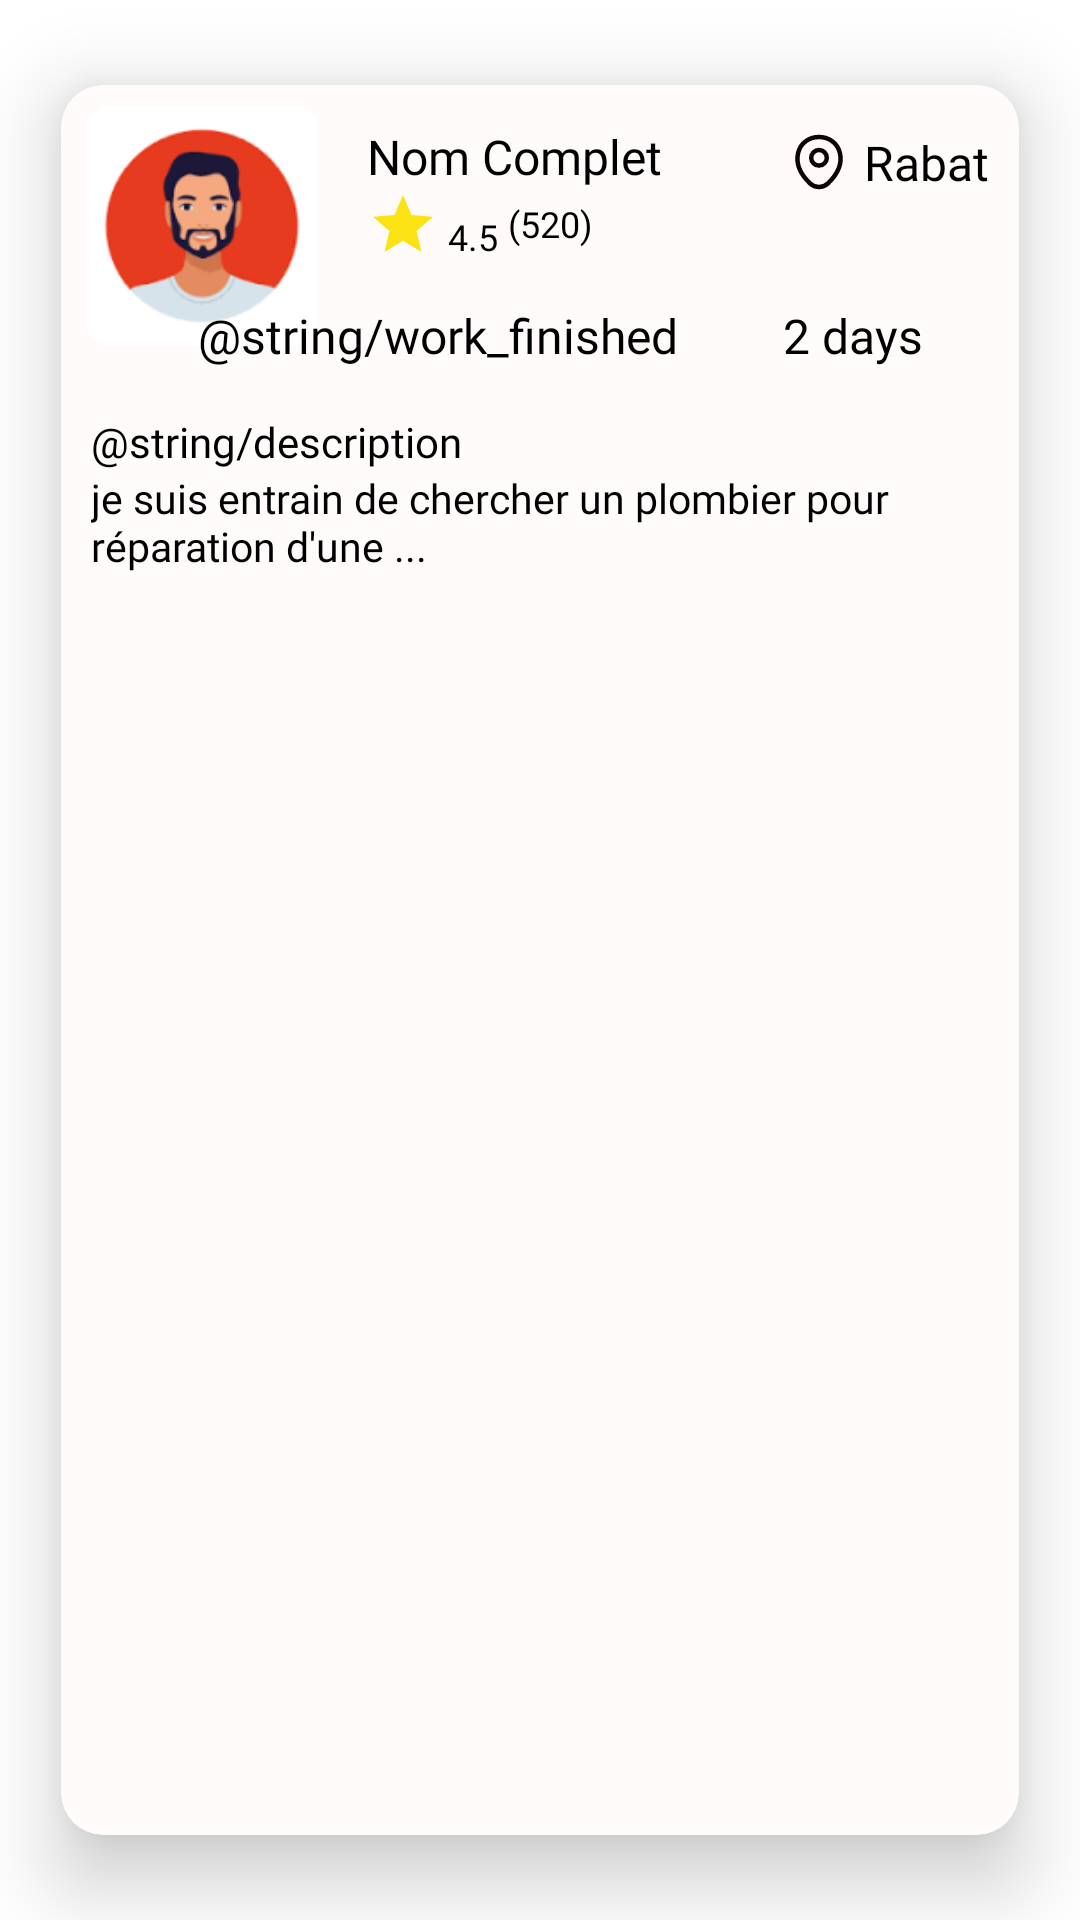

Icons on this 1080x1920 Android screen, each with its box as (x1, y1, x2, y2):
userphoto: (105, 129, 322, 346)
